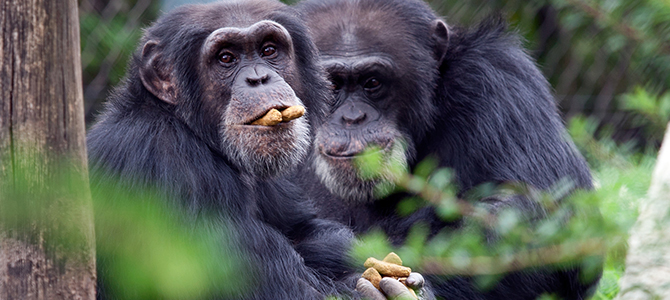Chimpanzee: (302, 8, 590, 246), (110, 3, 321, 299)
